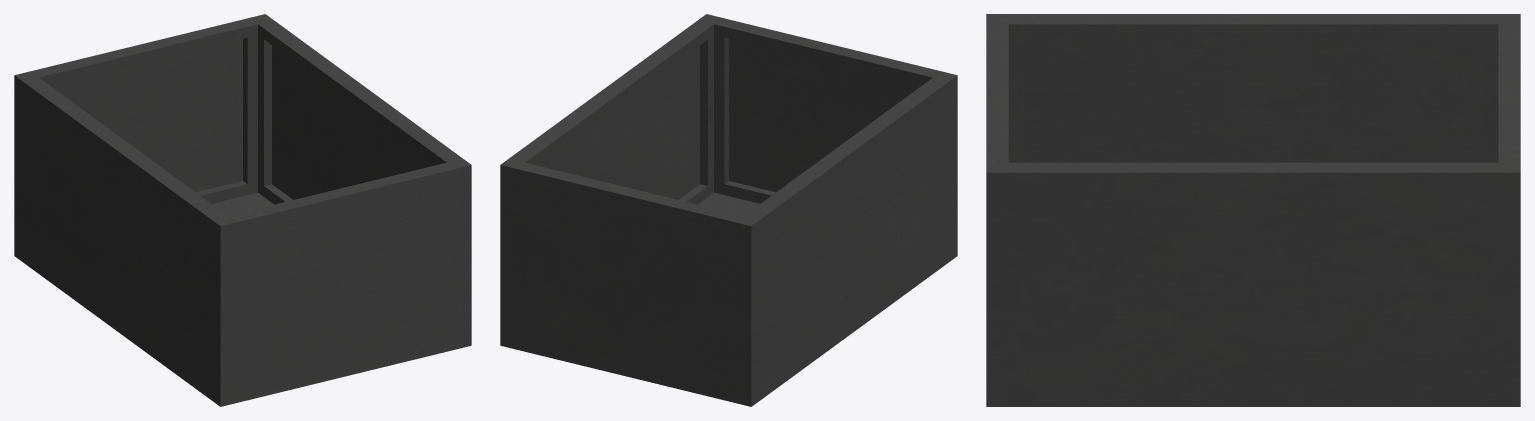
The model's file is tankwtexture3.glb.
3 views of the same model, side by side, from view 1: azimuth 30°, elevation 25°; view 2: azimuth 150°, elevation 25°; view 3: azimuth 270°, elevation 25° (orthographic). The views are drawn at different scales.
Visible parts, largest first — view 1: tank; view 2: tank; view 3: tank.
Boxes of the visible parts, x1=… form: tank: x1=14, y1=14, x2=471, y2=406; tank: x1=500, y1=14, x2=957, y2=406; tank: x1=986, y1=14, x2=1520, y2=406.
Bounding box in the file's own units: 57.83 × 39.77 × 82.24.
1 material, 1 textured.
